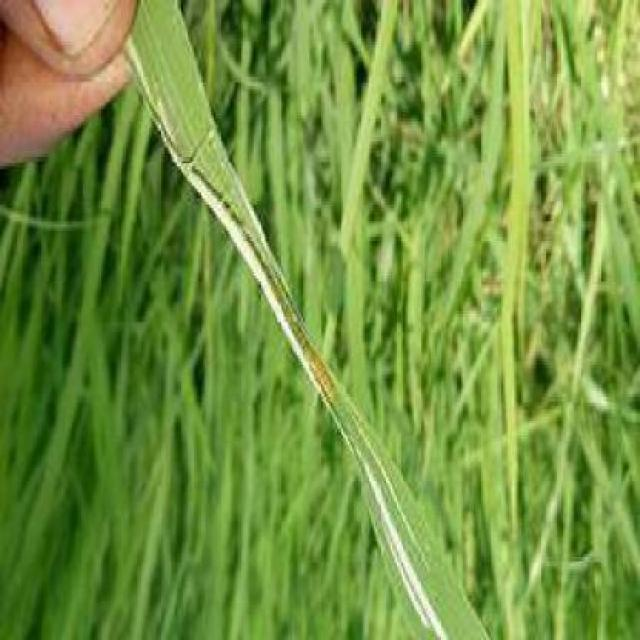leaf-folder: (257, 262, 355, 420)
